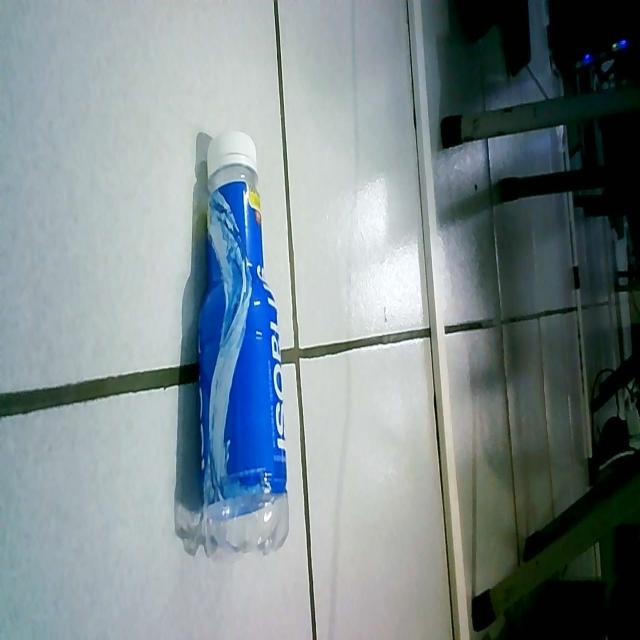botol: (184, 116, 304, 565)
